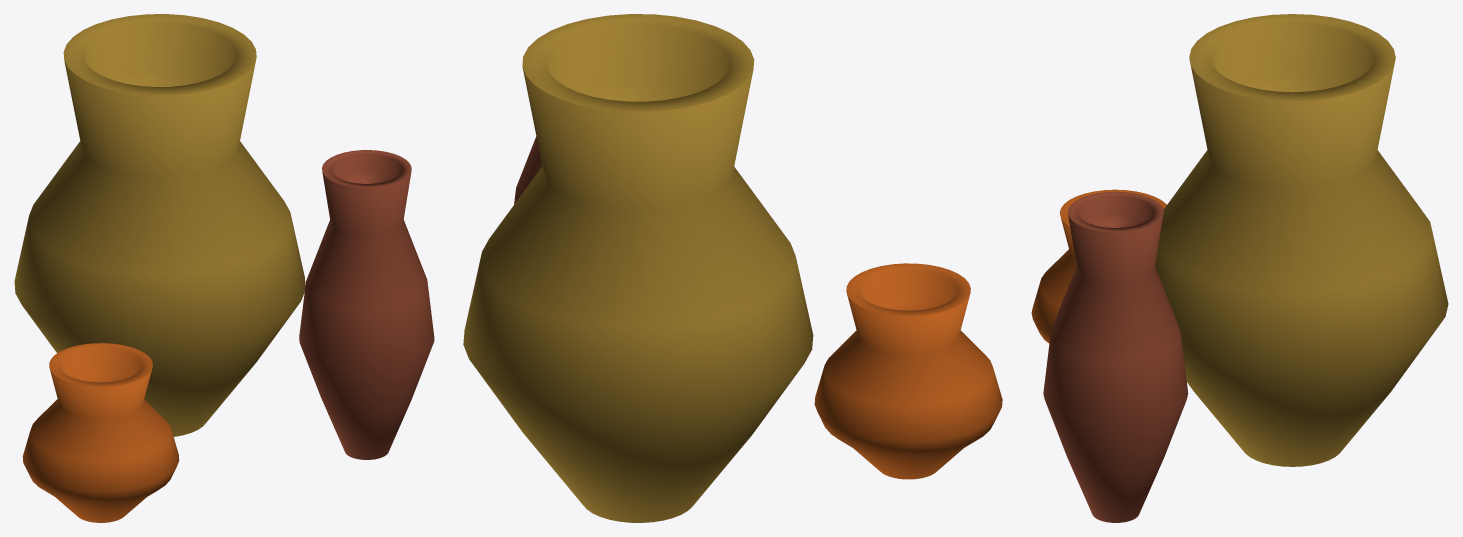
The model's file is Glechiky.fbx.
3 renders of one model, left to right at view 1: azimuth 30°, elevation 25°; view 2: azimuth 150°, elevation 25°; view 3: azimuth 270°, elevation 25°, orthographic. The views are drawn at different scales.
Visible parts, largest first — view 1: Cylinder, Cylinder.003, Cylinder.002; view 2: Cylinder, Cylinder.002, Cylinder.003; view 3: Cylinder, Cylinder.003, Cylinder.002.
Part boxes in pixels (box(x1,y1,x2,y2)): Cylinder: box(14, 14, 305, 436); Cylinder.003: box(299, 150, 434, 459); Cylinder.002: box(22, 343, 179, 522); Cylinder: box(463, 14, 813, 522); Cylinder.002: box(814, 263, 1002, 479); Cylinder.003: box(514, 136, 542, 204); Cylinder: box(1155, 14, 1448, 466); Cylinder.003: box(1043, 191, 1188, 522); Cylinder.002: box(1031, 189, 1166, 343).
Bounding box in the file's own units: 311 × 276 × 267.
